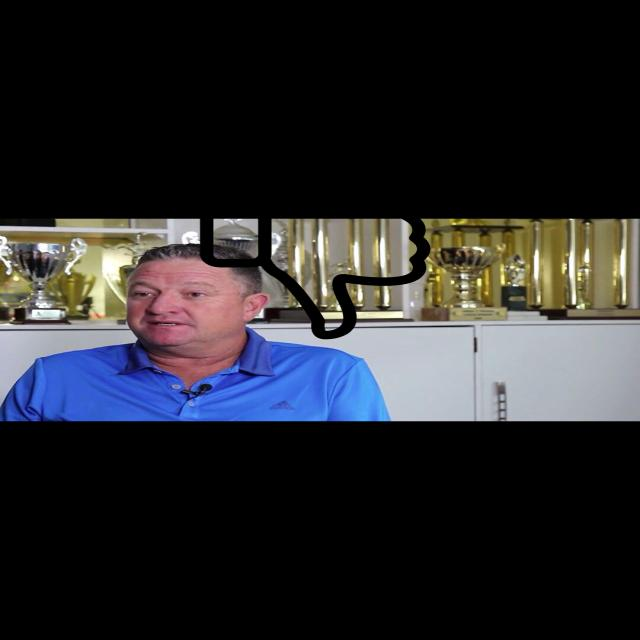obstruction: (197, 189, 434, 339)
